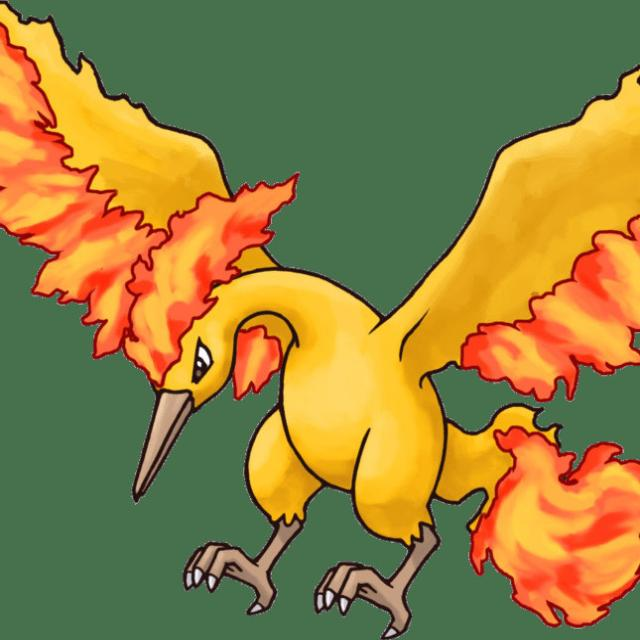Moltres: (36, 155, 582, 594)
